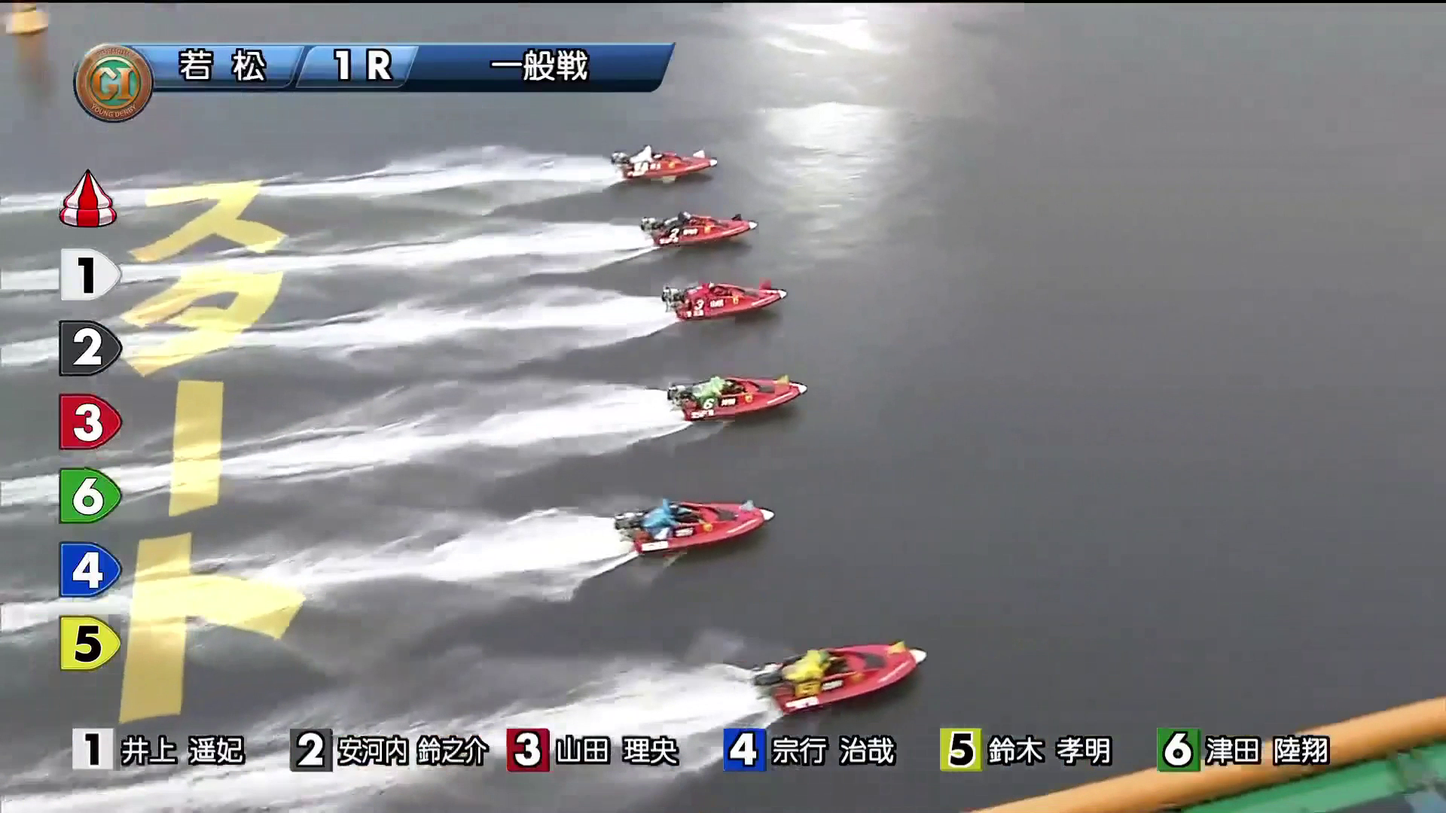１号艇: (626, 141, 701, 180)
２号艇: (649, 207, 752, 245)
３号艇: (671, 274, 797, 315)
４号艇: (688, 363, 792, 406)
５号艇: (630, 494, 751, 549)
６号艇: (745, 638, 903, 694)
